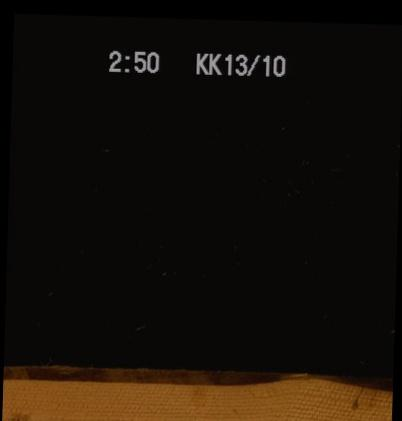wave: (4, 362, 392, 387)
